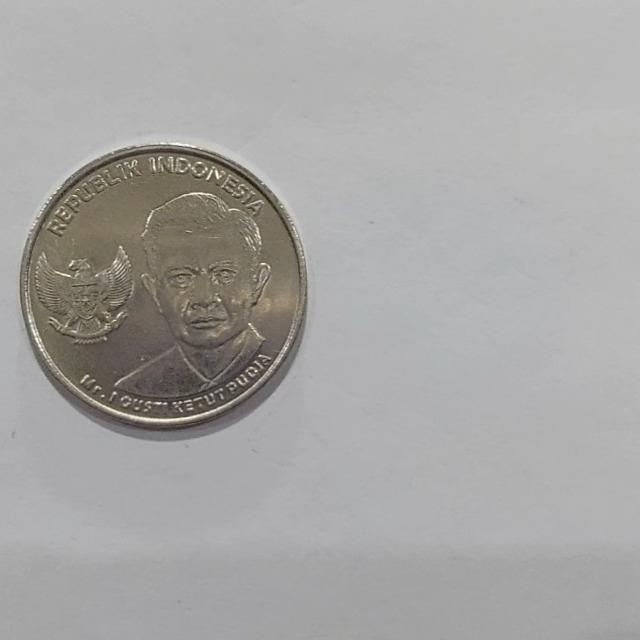Rp100: (18, 140, 308, 431), (109, 188, 274, 403)
